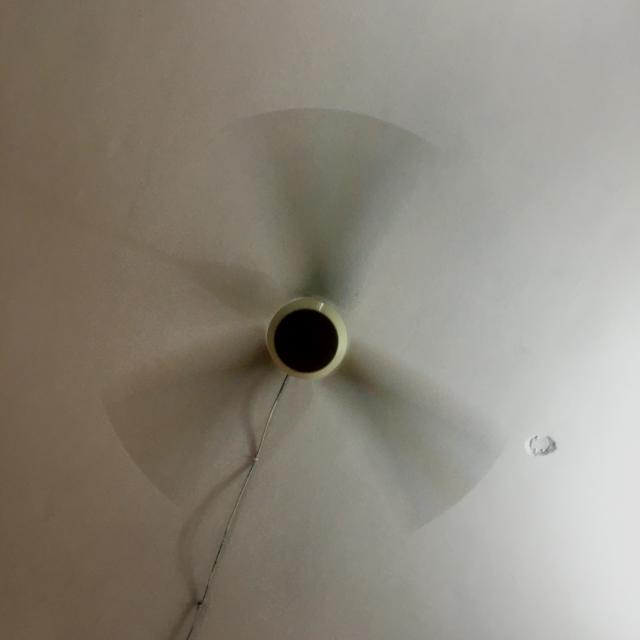on: (83, 96, 523, 533)
